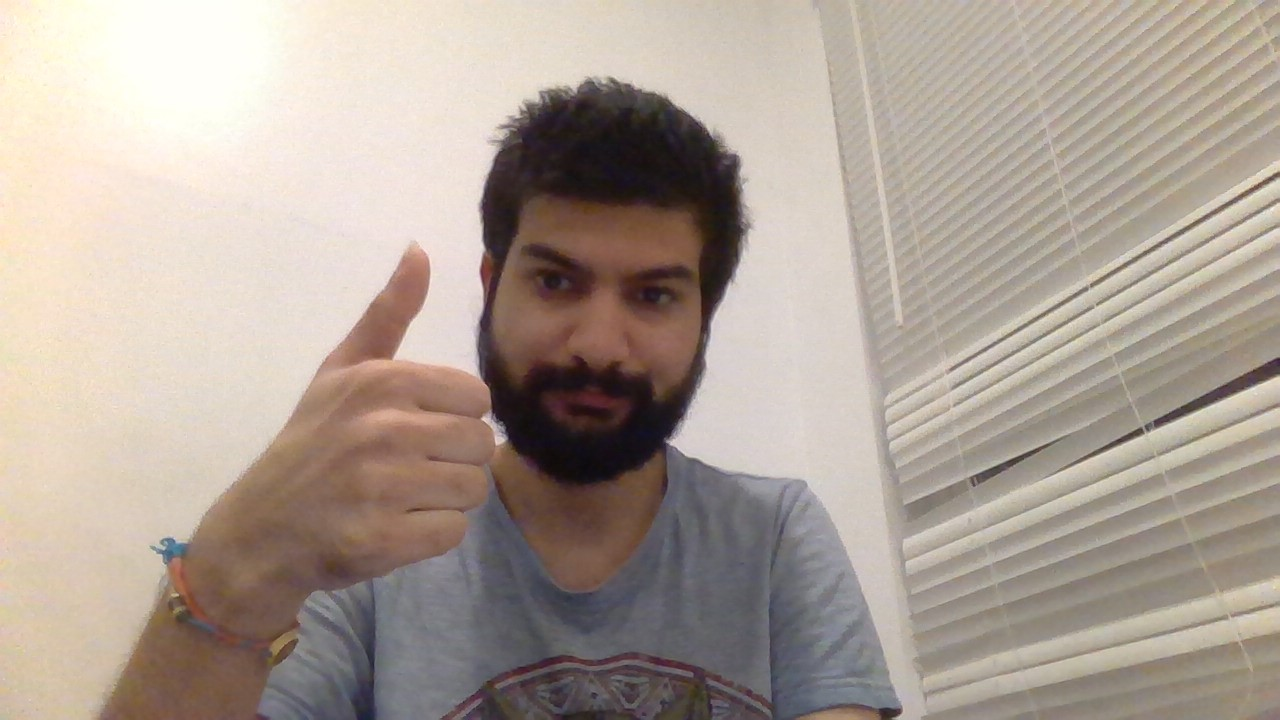up: (313, 233, 503, 580)
